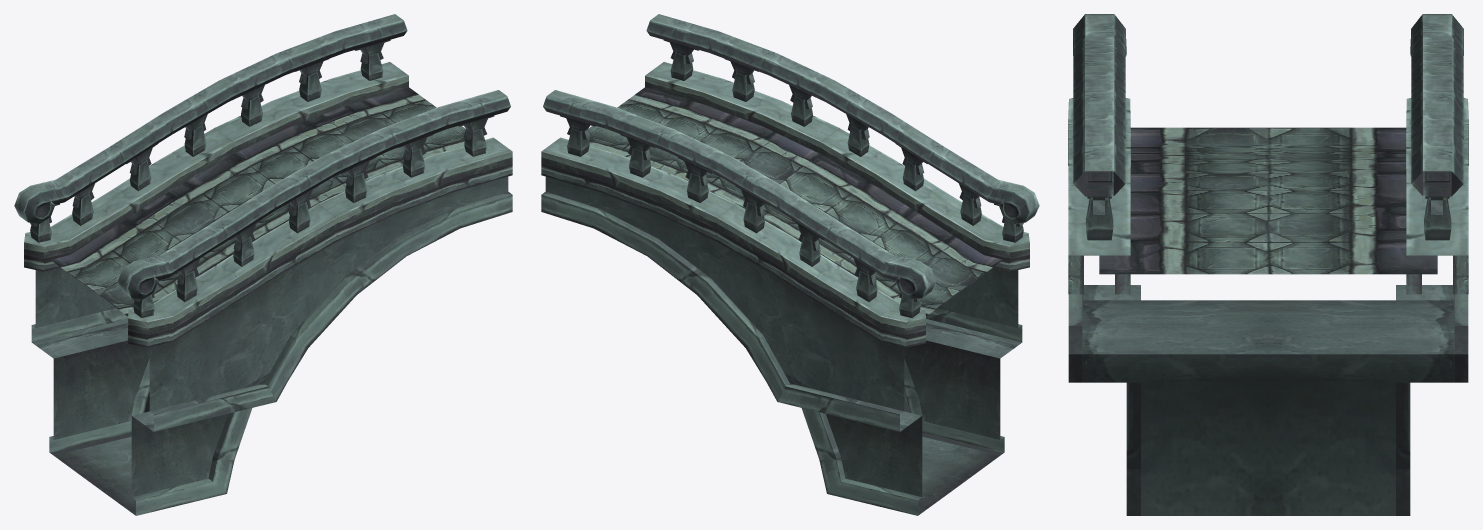
File: crypt_bridge_transition_01.fbx
The picture shows the model from 3 angles, left to right: view 1: azimuth 30°, elevation 25°; view 2: azimuth 150°, elevation 25°; view 3: azimuth 270°, elevation 25°; orthographic projection. The views are drawn at different scales.
Parts seen in each view (by area): view 1: crypt_bridge_transition_01-0; view 2: crypt_bridge_transition_01-0; view 3: crypt_bridge_transition_01-0.
Part boxes in pixels (x1,y1,x2,y2): crypt_bridge_transition_01-0: (14, 14, 512, 515); crypt_bridge_transition_01-0: (541, 14, 1039, 515); crypt_bridge_transition_01-0: (1068, 14, 1468, 515).
Bounding box in the file's own units: 8.5 × 7.28 × 4.74.
